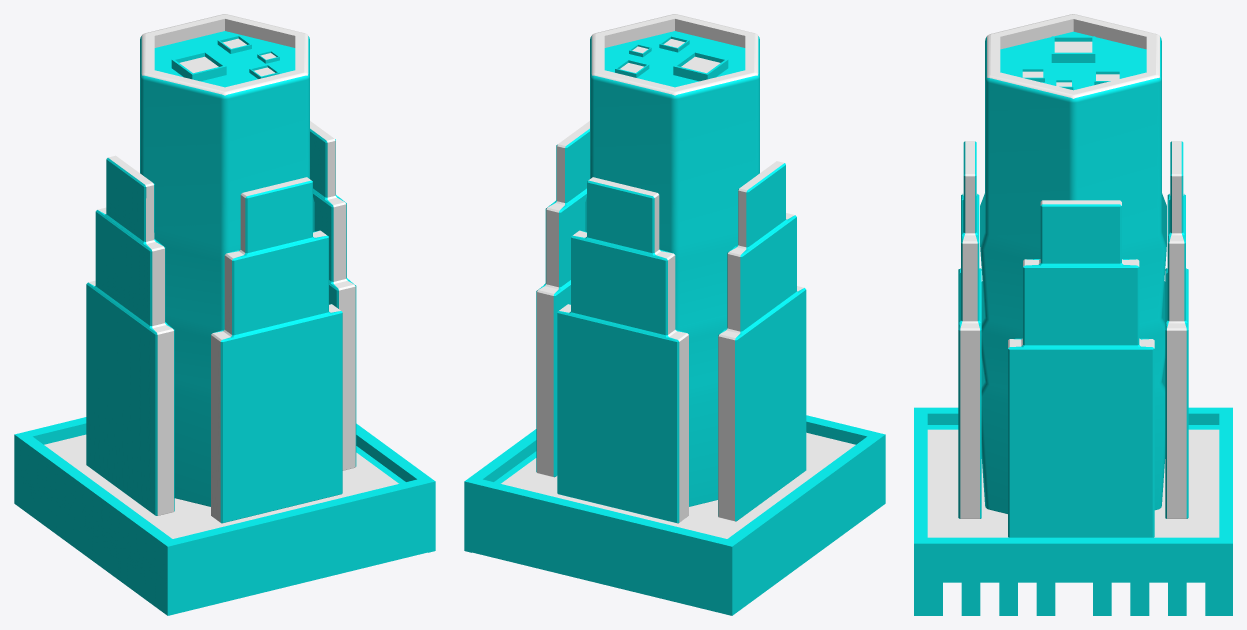
File: Building_24_Blue.glb
The picture shows the model from 3 angles, left to right: view 1: azimuth 30°, elevation 25°; view 2: azimuth 150°, elevation 25°; view 3: azimuth 270°, elevation 25°; orthographic projection. The views are drawn at different scales.
Visible parts, largest first — view 1: pCube17; view 2: pCube17; view 3: pCube17.
Part boxes in pixels (bbox=[...]): pCube17: bbox=[14, 14, 435, 615]; pCube17: bbox=[464, 14, 885, 615]; pCube17: bbox=[914, 14, 1232, 615].
Size of the model in its own units: 5393 by 9133 by 5350.
